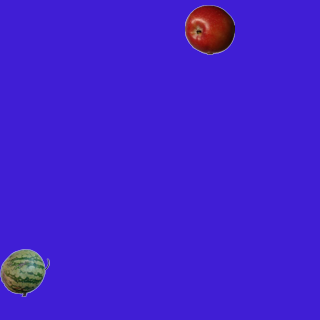Apple Braeburn: (184, 4, 234, 54)
Watermelon: (0, 247, 49, 297)
